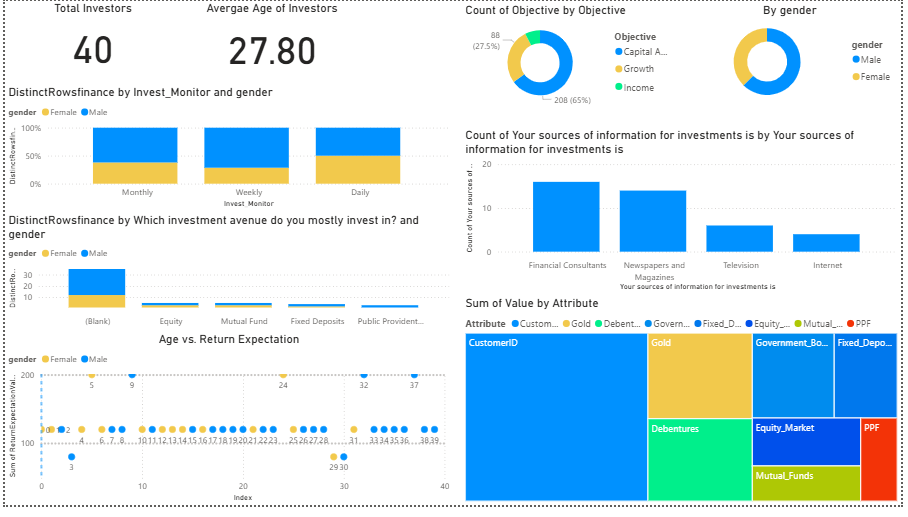

The dashboard page shown, as its layout file describes it:
{"tool":"powerbi","page":{"name":"Page 1","canvas":[1280,720],"ordinal":0},"visuals":[{"type":"donutChart","title":" By gender","fields":{"Category":["Finance_data.gender"],"Y":["CountNonNull(Finance_data.gender)"]},"box":[963.3,3.3,316.7,148.3],"z":0},{"type":"card","title":"Total Investors","fields":{"Values":["Original_data.DistinctRows"]},"box":[0,0,251.7,105],"z":1000},{"type":"card","title":"Avergae Age of Investors","fields":{"Values":["Finance_data.AverageAge"]},"box":[255,0,251.7,108.3],"z":2000},{"type":"hundredPercentStackedColumnChart","fields":{"Series":["Finance_data.gender"],"Category":["Finance_data.Invest_Monitor"],"Y":["Finance_data.DistinctRowsfinance"]},"box":[0,120,640,180],"z":3000},{"type":"scatterChart","title":"Age vs. Return Expectation","fields":{"Series":["Finance_data.gender"],"X":["Finance_data.Index"],"Y":["Sum(Finance_data.ReturnExpectationValue)"]},"box":[0,473.3,640,246.7],"z":4000},{"type":"donutChart","fields":{"Category":["Finance_data.Objective"],"Y":["CountNonNull(Finance_data.Objective)"]},"box":[653.3,3.3,315,151.7],"z":5000},{"type":"columnChart","fields":{"Category":["Original_data.Which investment avenue do you mostly invest in?"],"Y":["Finance_data.DistinctRowsfinance"],"Series":["Finance_data.gender"]},"box":[0,303.3,640,170],"z":6000},{"type":"clusteredColumnChart","fields":{"Category":["Original_data.Your sources of information for investments is "],"Y":["CountNonNull(Original_data.Your sources of information for investments is )"]},"box":[653.3,181.7,626.7,236.7],"z":7000},{"type":"treemap","fields":{"Group":["Finance_data.Attribute"],"Values":["Sum(Finance_data.Value)"]},"box":[653.3,421.7,626.7,298.3],"z":7001}]}

Visuals, with their boxes in screenshot pixels (x1, y1, x2, y2), scaled from the page's 1280x720 canvas onto the 908x517 screenshot:
" By gender" donutChart: 683 2 907 109
"Total Investors" card: 0 0 179 75
"Avergae Age of Investors" card: 181 0 359 78
hundredPercentStackedColumnChart - Finance_data.gender x Finance_data.Invest_Monitor: 0 86 454 215
"Age vs. Return Expectation" scatterChart: 0 340 454 516
donutChart - Finance_data.Objective x CountNonNull(Finance_data.Objective): 463 2 687 111
columnChart - Original_data.Which investment avenue do you mostly invest in? x Finance_data.DistinctRowsfinance: 0 218 454 340
clusteredColumnChart - Original_data.Your sources of information for investments is  x CountNonNull(Original_data.Your sources of information for investments is ): 463 130 907 300
treemap - Finance_data.Attribute x Sum(Finance_data.Value): 463 303 907 516
